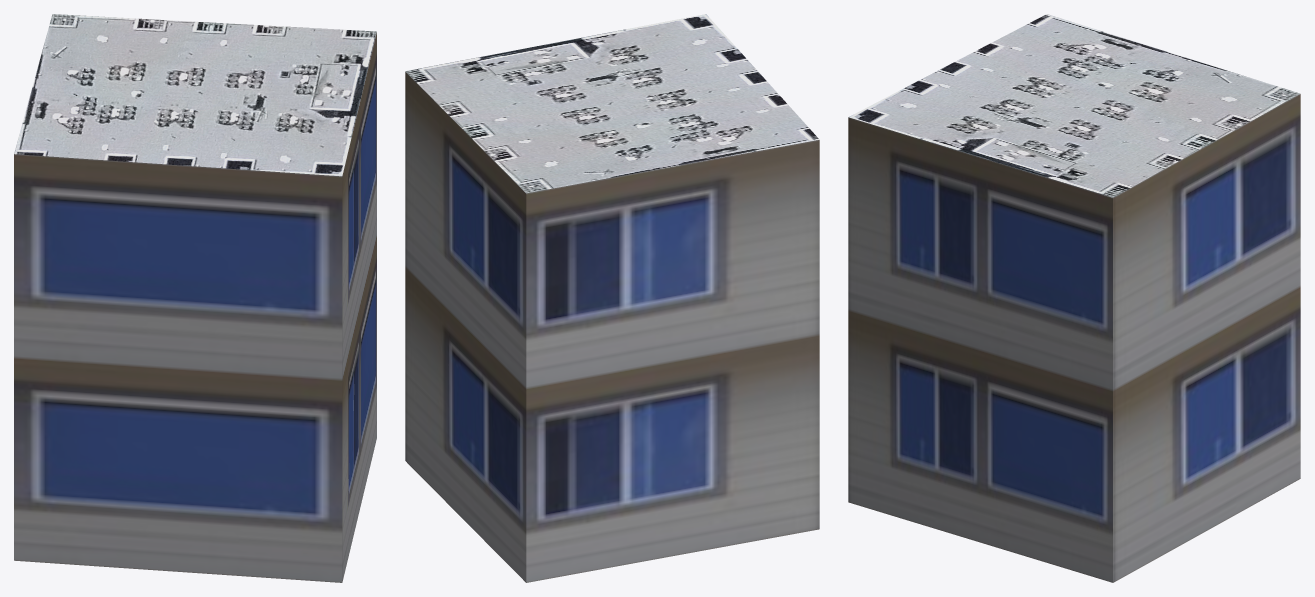
The model's file is ResTex__306.fbx.
3 renders of one model, left to right at view 1: azimuth 30°, elevation 25°; view 2: azimuth 150°, elevation 25°; view 3: azimuth 270°, elevation 25°, orthographic. The views are drawn at different scales.
Visible parts, largest first — view 1: CityEngineMaterial_23_m, CityEngineMaterial_8_m; view 2: CityEngineMaterial_23_m, CityEngineMaterial_8_m; view 3: CityEngineMaterial_23_m, CityEngineMaterial_8_m.
Part boxes in pixels (left/top/right/bottom): CityEngineMaterial_23_m: left=14, top=32, right=376, bottom=582; CityEngineMaterial_8_m: left=14, top=14, right=376, bottom=176; CityEngineMaterial_23_m: left=405, top=72, right=819, bottom=582; CityEngineMaterial_8_m: left=405, top=14, right=819, bottom=193; CityEngineMaterial_23_m: left=848, top=94, right=1300, bottom=582; CityEngineMaterial_8_m: left=848, top=14, right=1299, bottom=197.
Bounding box in the file's own units: 6.14 × 6 × 6.39.
2 materials, 2 textured.
